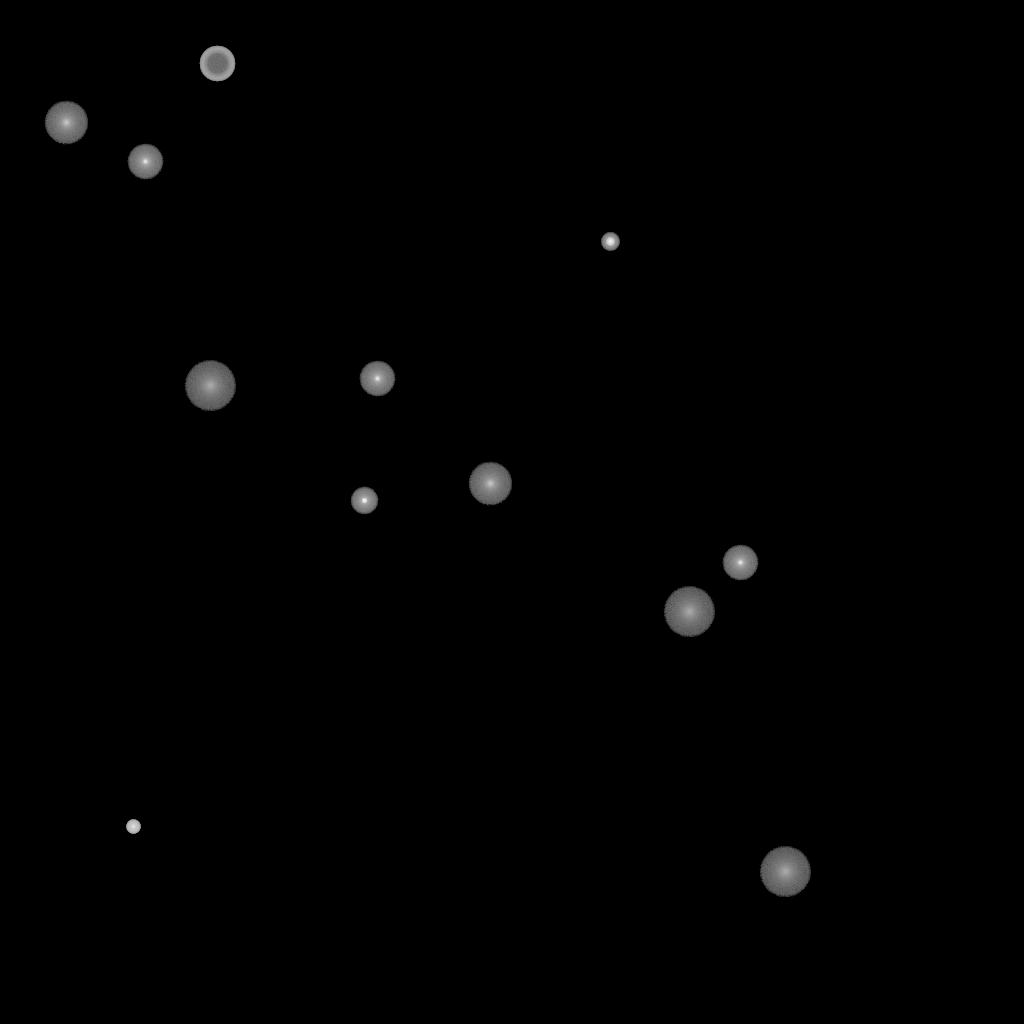depth:-10: (350, 487, 378, 515)
depth:-20: (601, 233, 619, 251)
depth:-30: (126, 820, 140, 834)
depth:-60: (199, 46, 235, 82)
depth:0: (722, 545, 758, 581), (359, 361, 395, 397), (127, 144, 163, 180)
depth:10: (468, 462, 512, 506), (44, 101, 88, 145)
depth:20: (759, 847, 811, 897), (184, 361, 236, 411), (663, 587, 715, 637)
